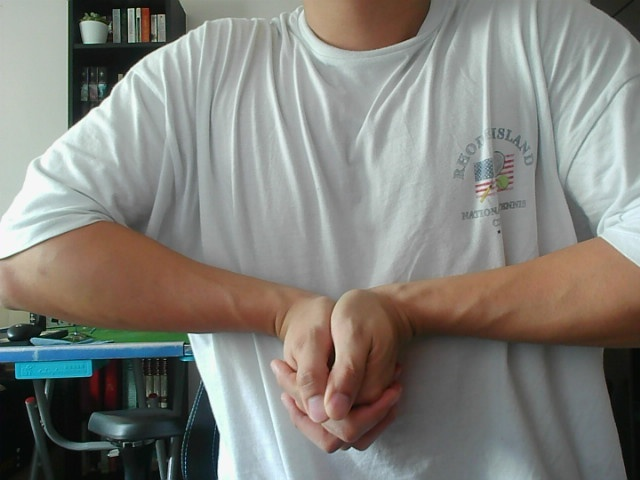Boar: (227, 257, 473, 467)
